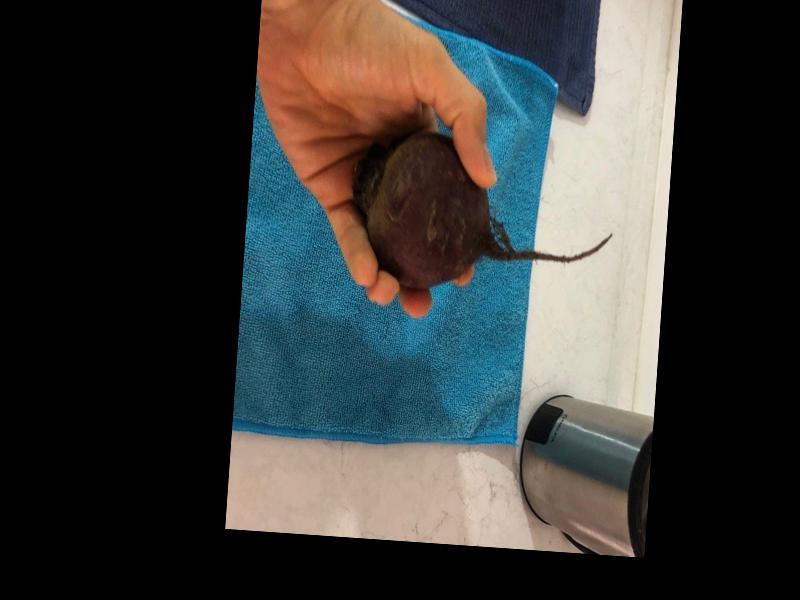Beet: (345, 126, 617, 302)
